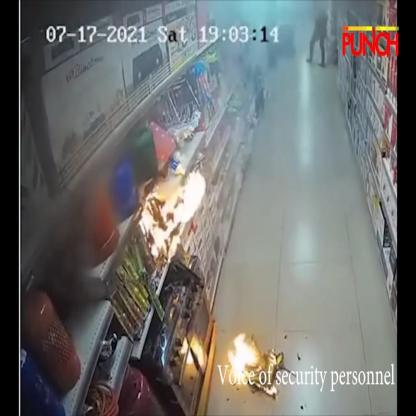fire: (139, 170, 206, 256), (228, 334, 256, 376)
